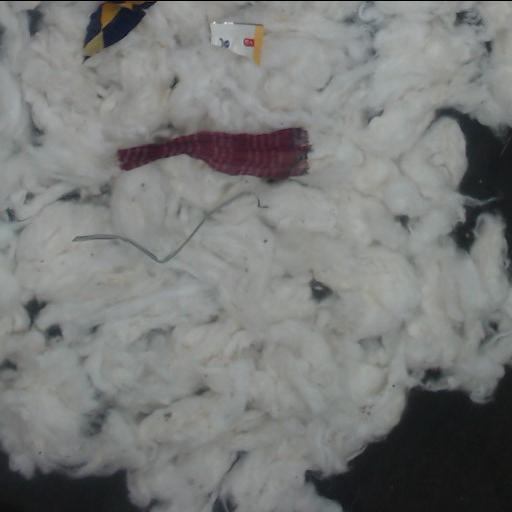cloth: (117, 128, 309, 179), (83, 1, 155, 60)
conveyor belt: (306, 368, 511, 512), (438, 109, 511, 257), (0, 451, 146, 512), (28, 9, 41, 33)
cotton: (0, 1, 511, 512)
packet: (210, 21, 262, 64)
thread: (72, 193, 251, 263)
